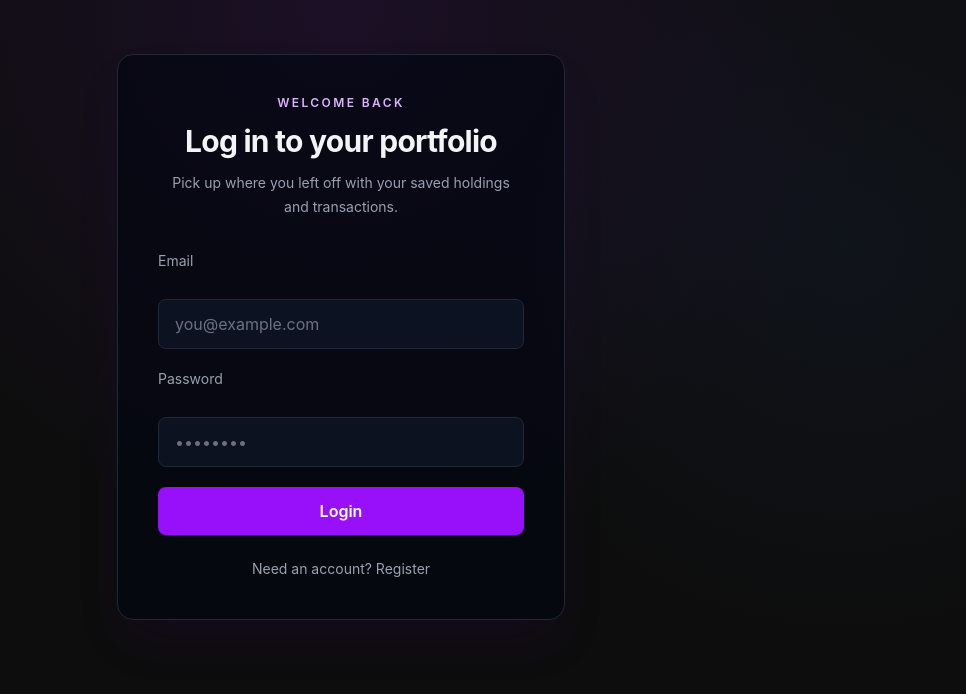
it: auth pages › renders the login page and shows an error on failed login
Type "user@example.com" into the field labelled "Email" at x=341, y=324, box [158,299,524,349]
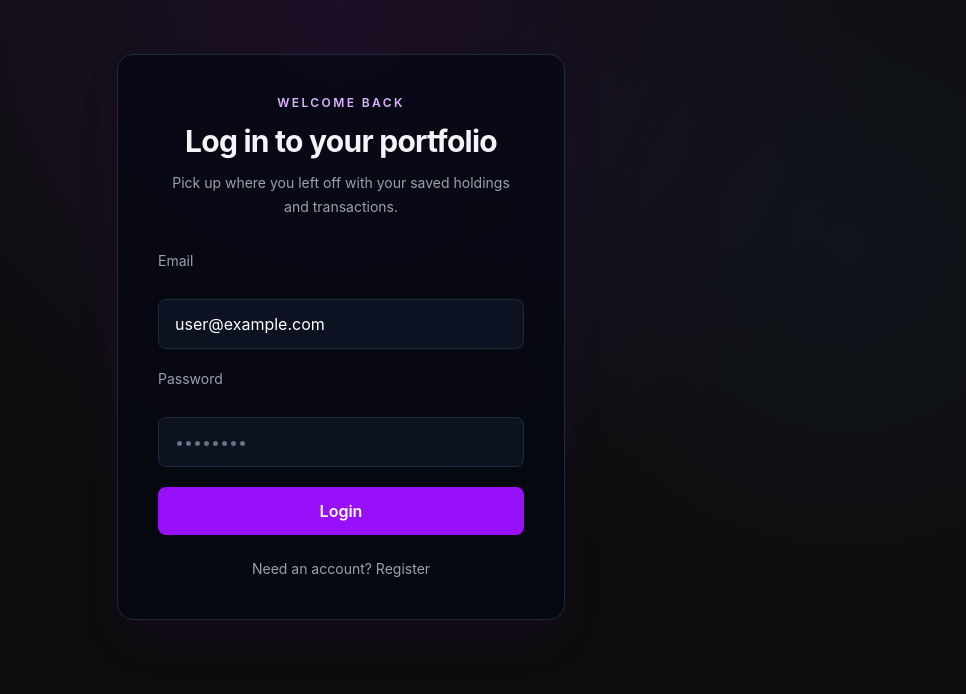
Type "wrong-password" into the password field labelled "Password" at x=341, y=442, box [158,417,524,467]
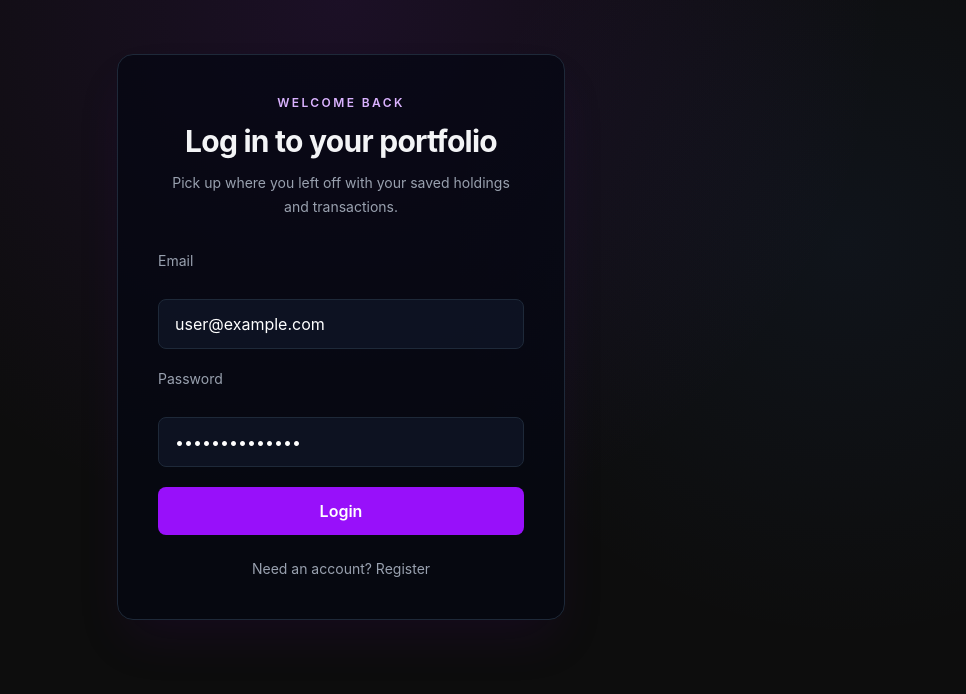
Click the button "Login" at x=341, y=511, box [158,487,524,535]
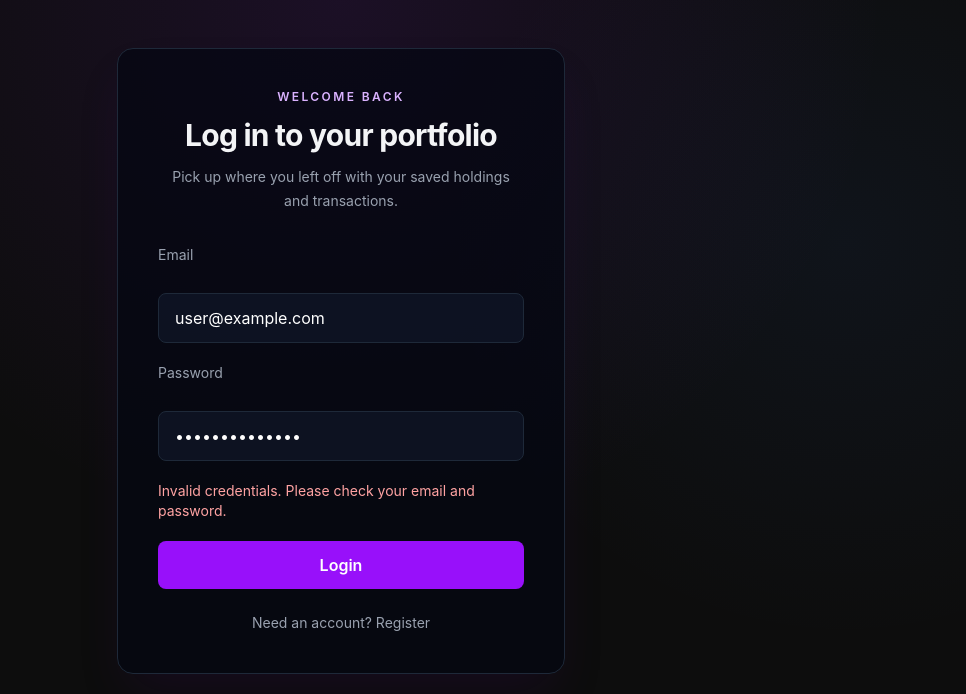
Expected: the text "Invalid credentials. Please check your email and password." is shown, [158,481,524,521]
